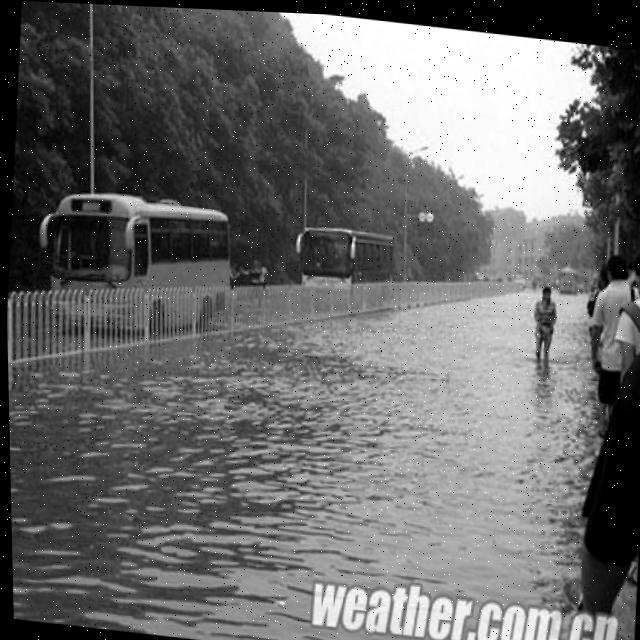civilian: (584, 244, 640, 437), (514, 268, 574, 373), (613, 235, 640, 387)
